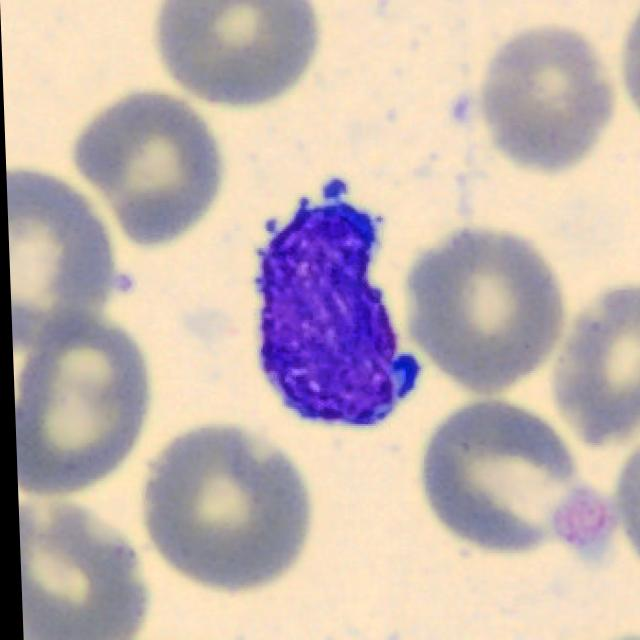Linfocito: (255, 178, 418, 426)
